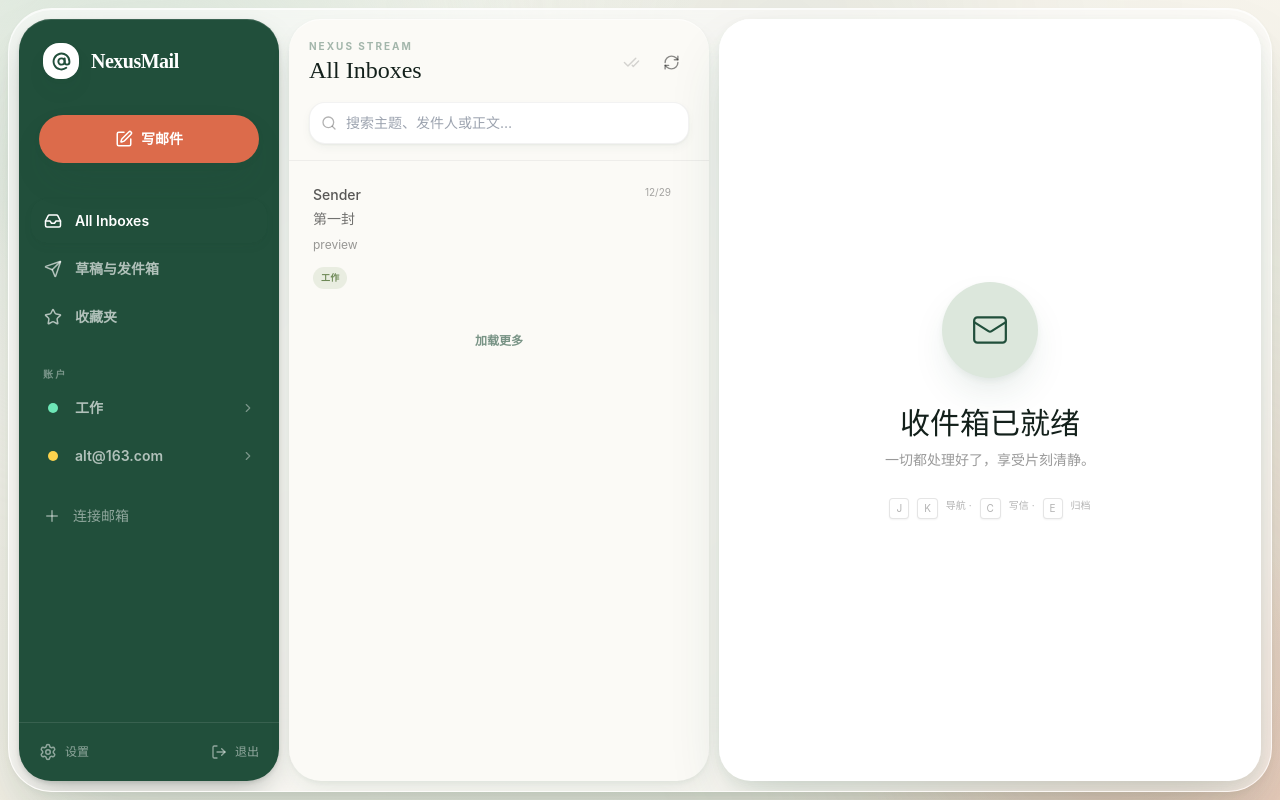
it: pagination › appends the next page with the cursor the server gave
Click the button "加载更多": (499,340) [297,320,701,360]
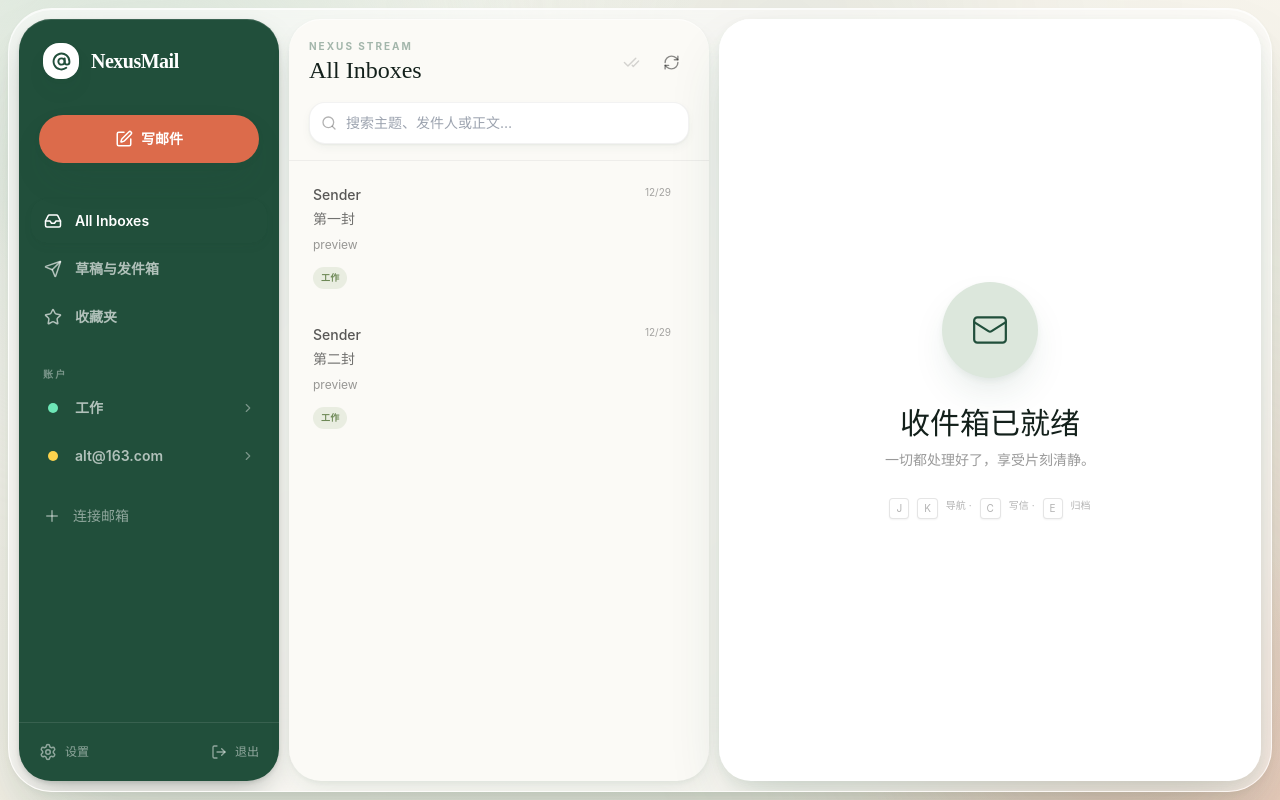
Expected: the button "Sender 12/29 第一封 preview 工作" is shown, [297,169,701,304]
Now the button "Sender 12/29 第二封 preview 工作" is shown, box [297,308,701,444]
Now the button "加载更多" is gone
